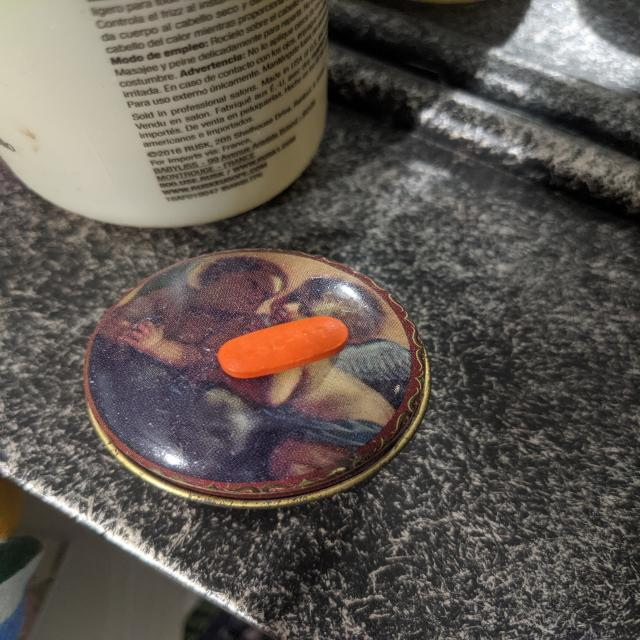non-organic waste: (216, 314, 349, 379)
